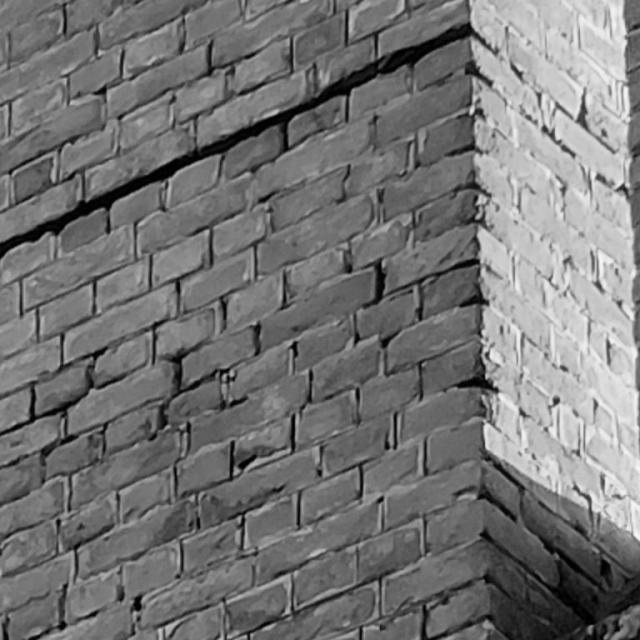crack: (1, 22, 500, 258)
